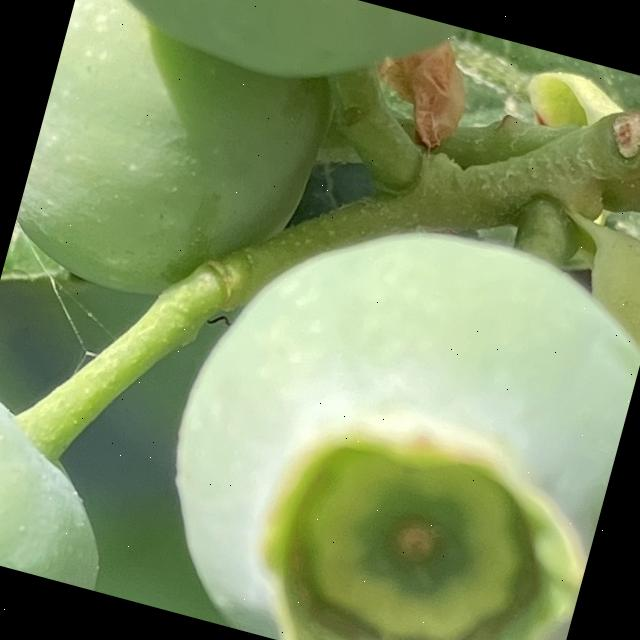Blueberries: (127, 173, 640, 640)
